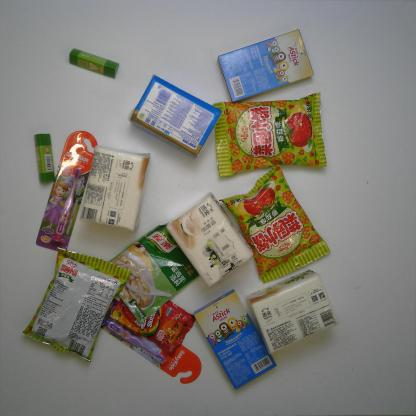Candy: (110, 298, 196, 357)
Dessert: (192, 288, 278, 390), (216, 28, 314, 103)
Personal Hygiene: (100, 298, 202, 384), (35, 130, 98, 252)
Puffed Food: (218, 164, 331, 284), (20, 246, 131, 363), (213, 92, 328, 177)
Seasoner: (106, 222, 200, 323)
Stationery: (68, 48, 120, 80), (34, 133, 55, 183)
Tissue: (166, 192, 254, 288), (245, 269, 340, 355), (128, 74, 223, 158), (79, 146, 152, 232)
